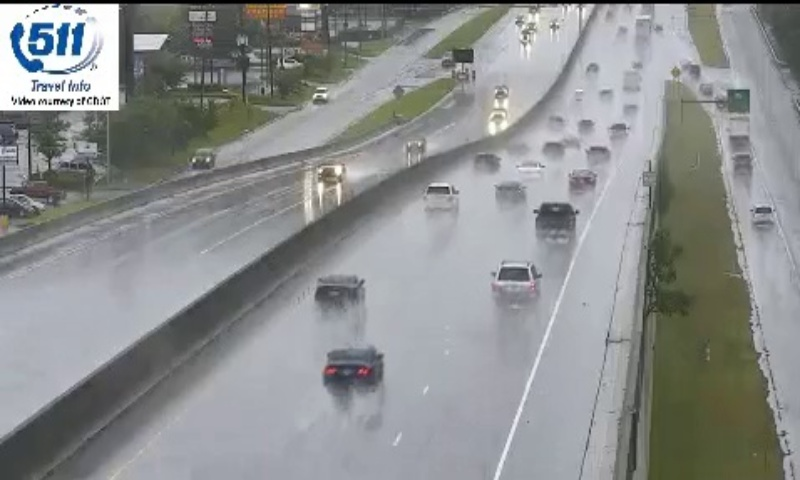car: (324, 347, 383, 389), (492, 262, 538, 302), (316, 273, 363, 311), (535, 201, 575, 236), (425, 182, 456, 209)
